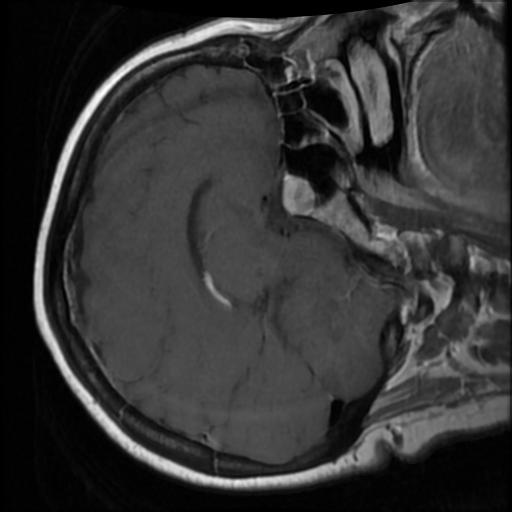pituitary tumour: (282, 173, 315, 216)
